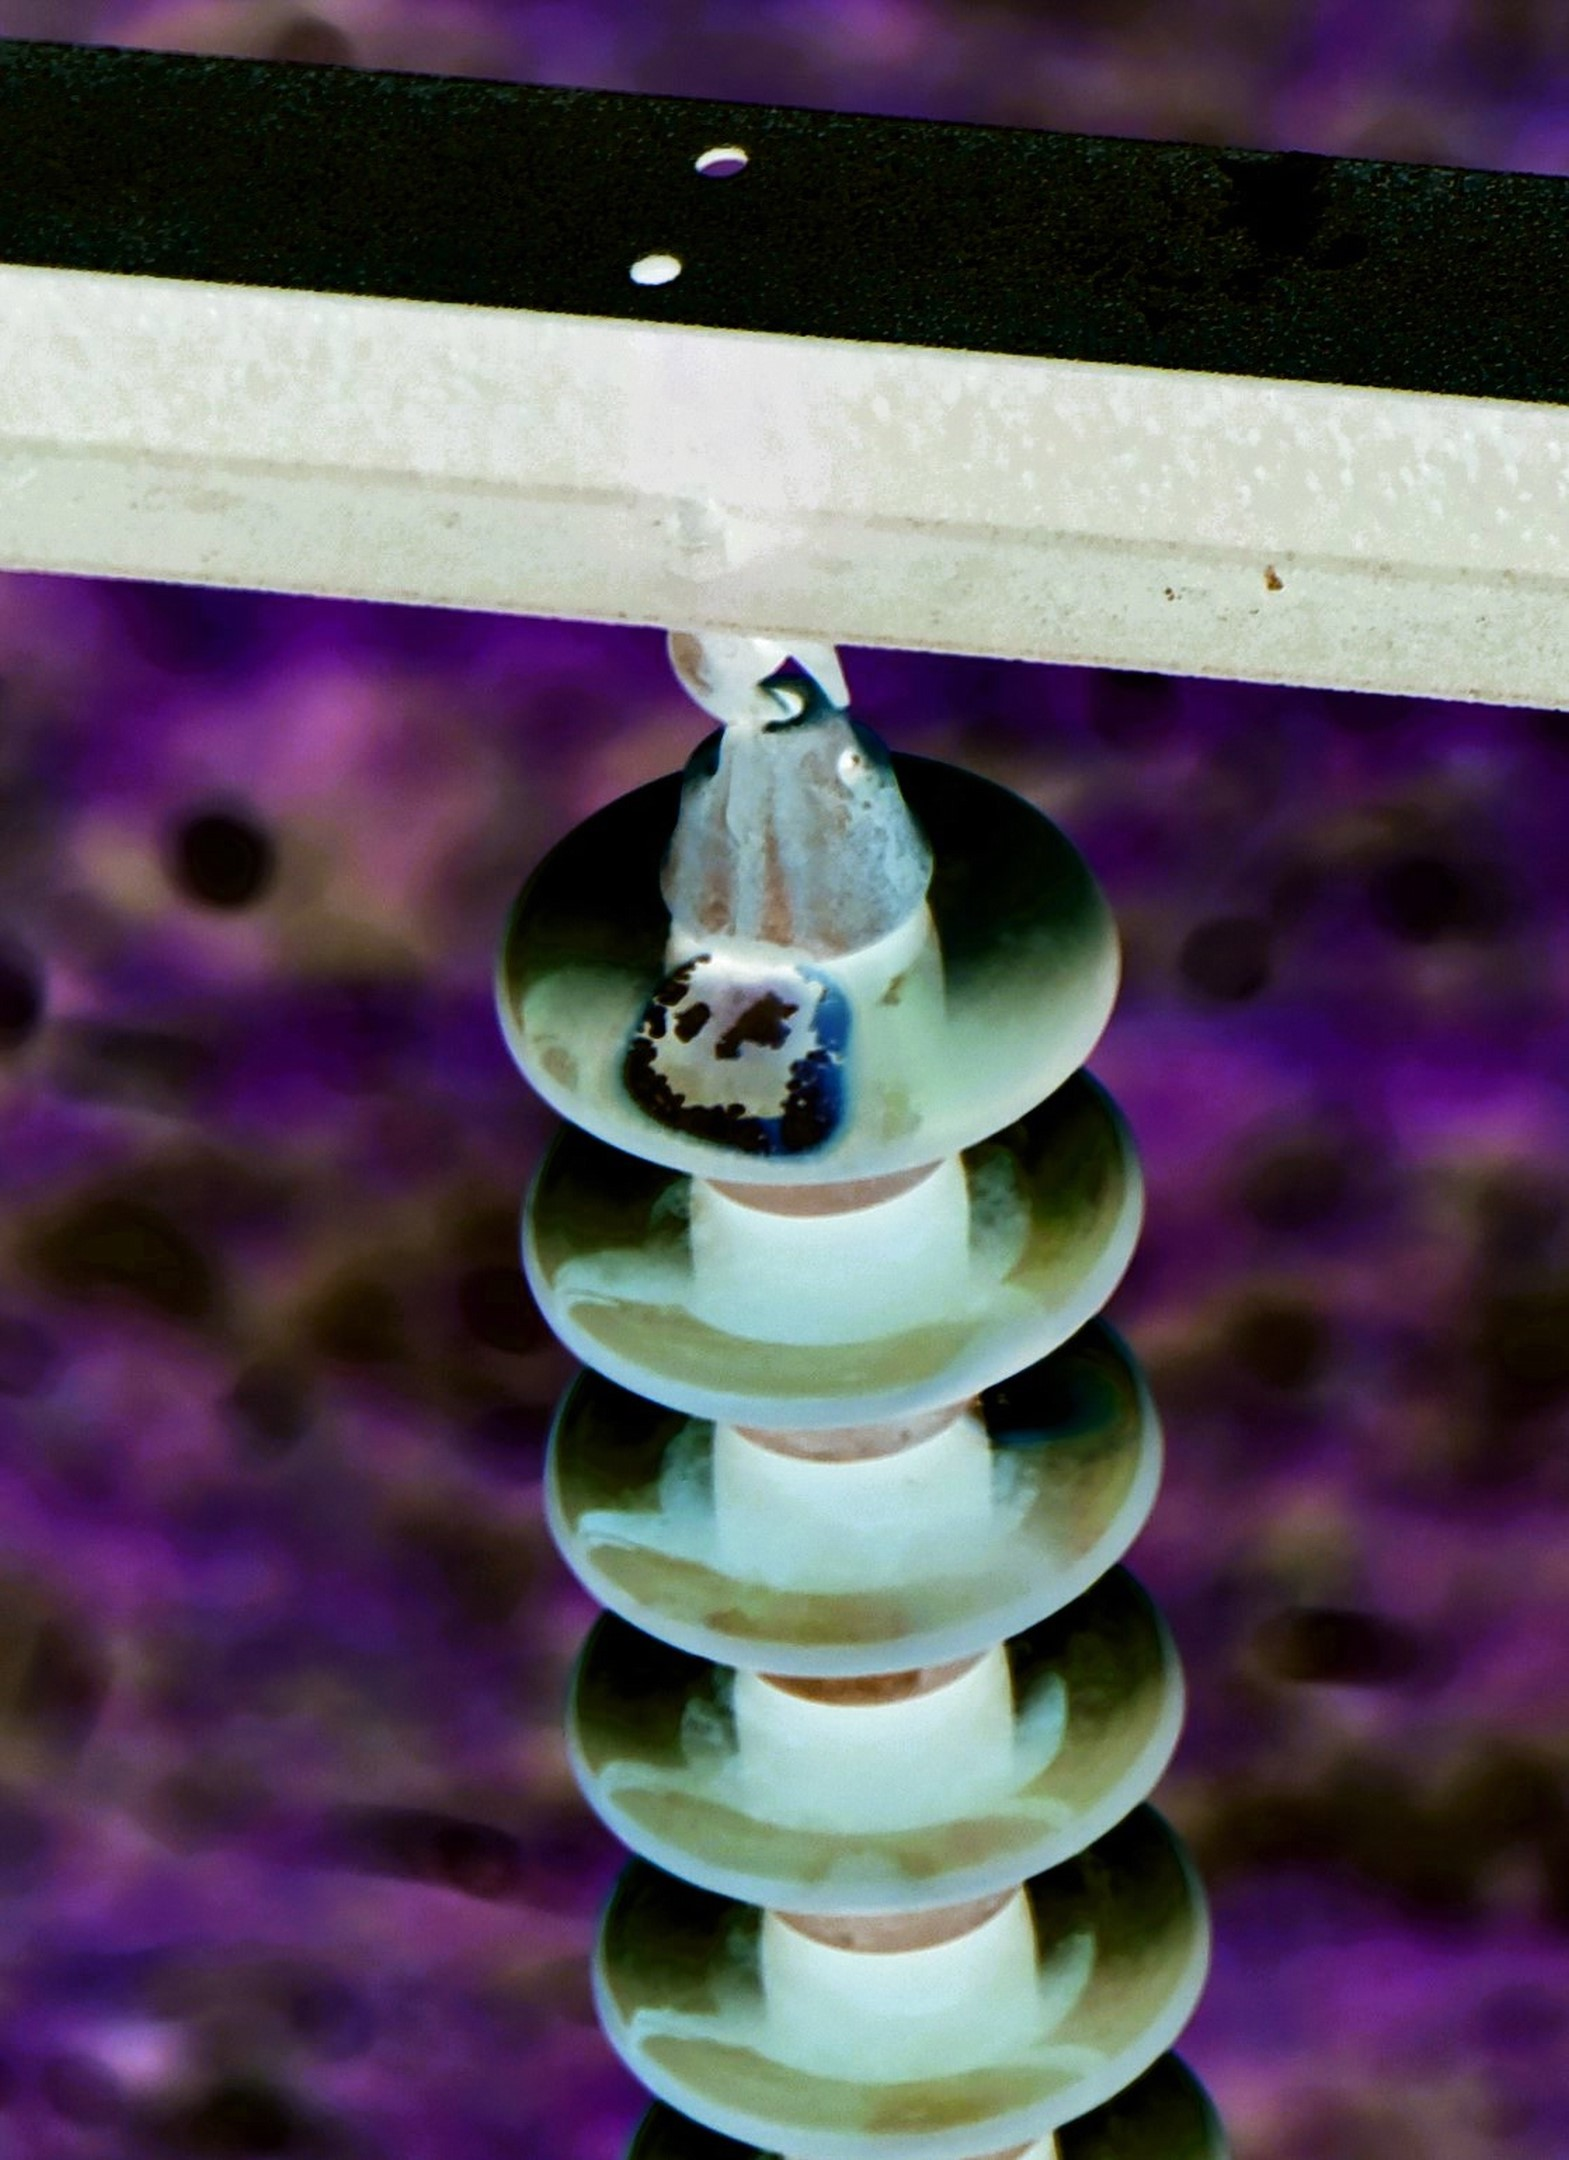Insulator flashover: (474, 766, 1162, 1191)
